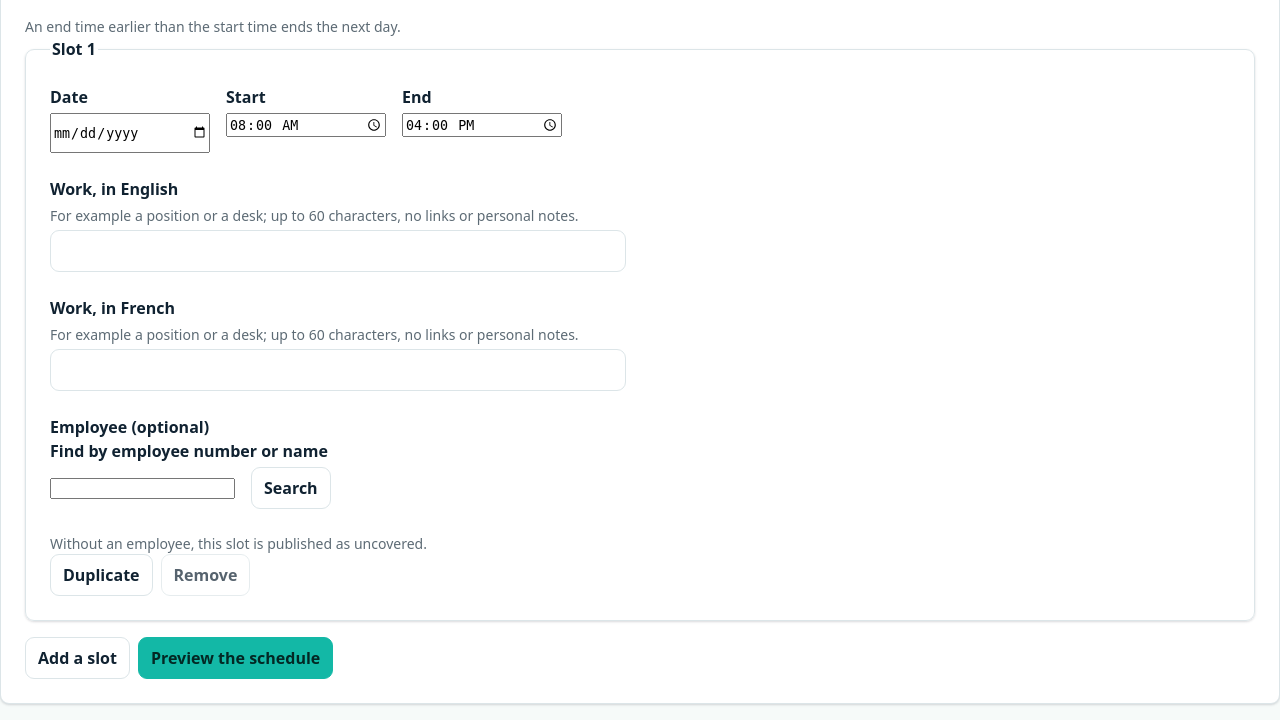
Test: MVP-050A schedules (en) › names the problems of an incomplete schedule and focuses them
The width and height of the screenshot is (1280, 720).
(page scrolled)
Click the button "Preview the schedule" at point(236, 658), box 138,637 -> 333,679
(page scrolled)
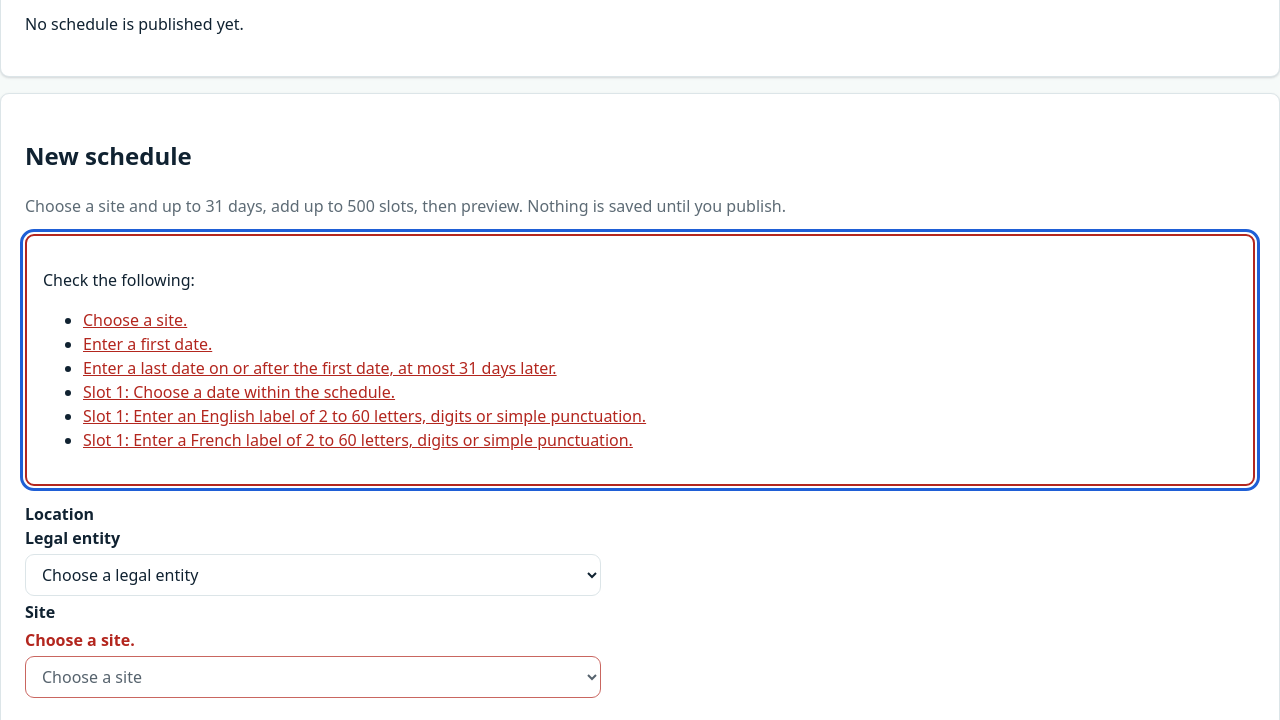
Now the message with test id "create-problems" shows "Choose a site.", box 83,309 -> 187,331
Now the message with test id "create-problems" shows "Enter a first date.", box 83,333 -> 212,355
